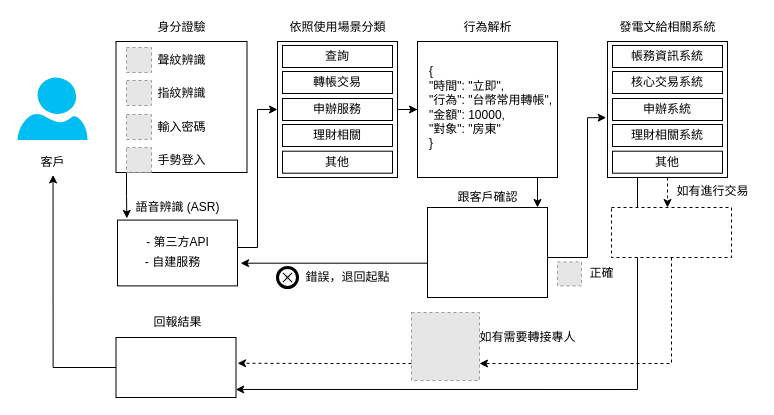
This 774x415 diagram has some shape labels left out. Grey dashed boxes stand in for pictures. Each missing label, with the centre of its shape:
TTS: 已成功轉帳10000元給「房東」: the point at 175,367
TTS：「您將立即轉帳新台幣10000元給「房東」，對嗎？」: the point at 487,252
請唸出/輸入 您的交易密碼: the point at 671,232
